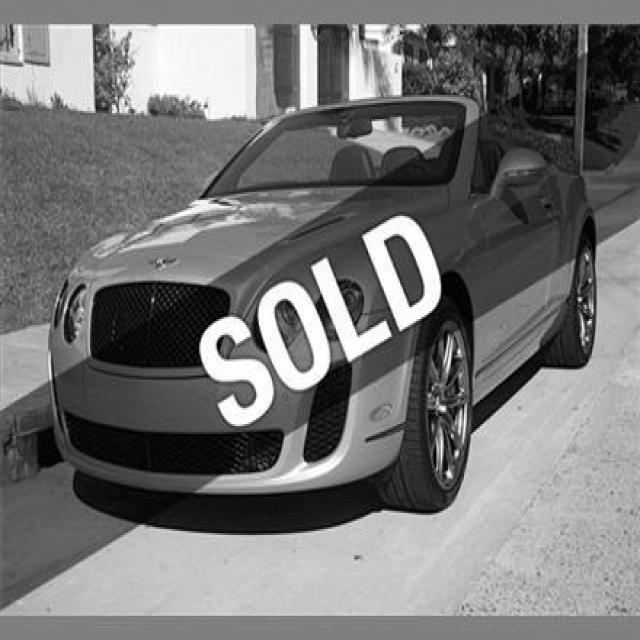car: (45, 93, 598, 513)
